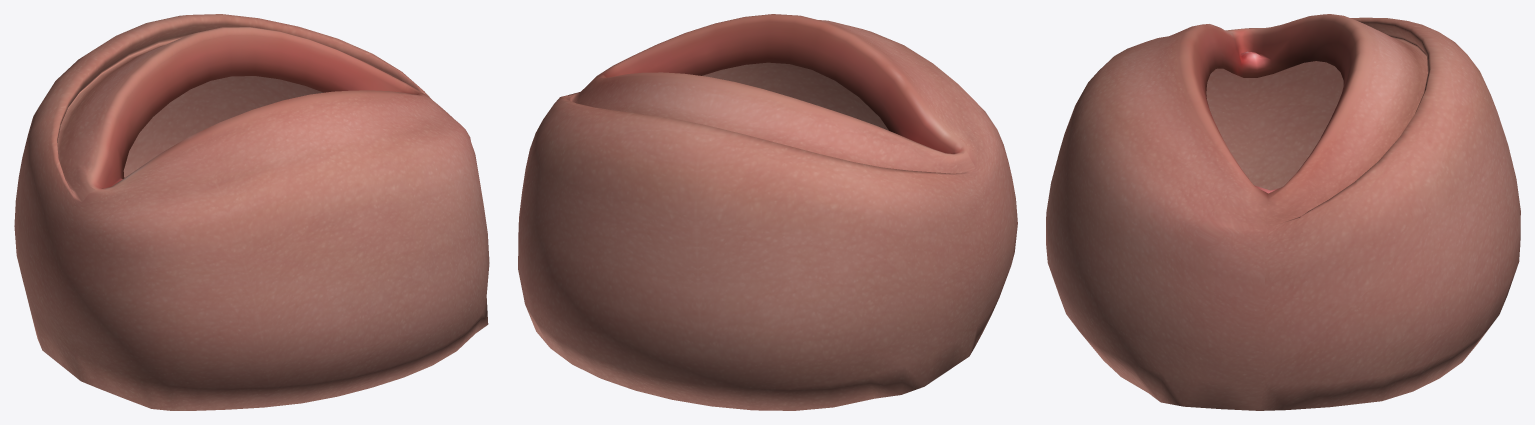
File: Eyelid_left.FBX
3 views of the same model, side by side, from view 1: azimuth 30°, elevation 25°; view 2: azimuth 150°, elevation 25°; view 3: azimuth 270°, elevation 25° (orthographic). The views are drawn at different scales.
Parts seen in each view (by area): view 1: Eyelid_eye005; view 2: Eyelid_eye005; view 3: Eyelid_eye005.
Boxes of the visible parts, box(x1,y1,x2,y2) form: Eyelid_eye005: box(14, 14, 489, 410); Eyelid_eye005: box(518, 14, 1017, 410); Eyelid_eye005: box(1046, 14, 1520, 410).
Bounding box in the file's own units: 4.23 × 2.63 × 4.2.
Materials: 1 (1 with a texture image).
